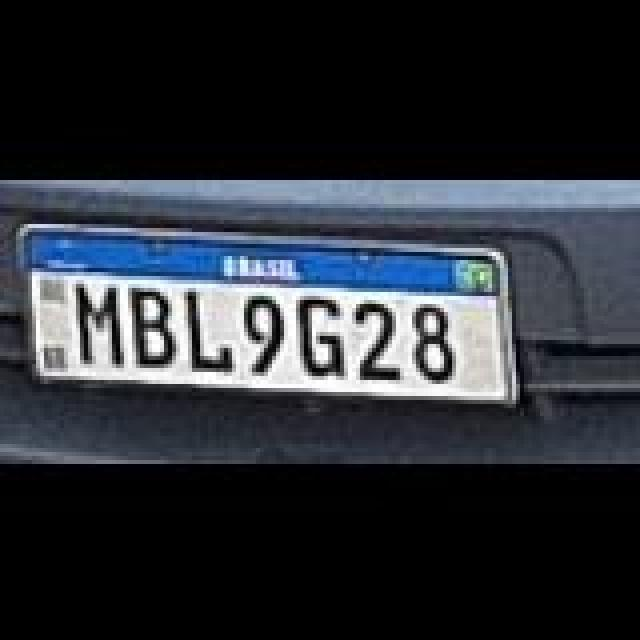2: (356, 300, 404, 380)
8: (414, 300, 458, 380)
9: (246, 292, 290, 372)
B: (132, 288, 180, 368)
G: (298, 294, 350, 378)
L: (188, 288, 236, 368)
M: (74, 278, 126, 362)
